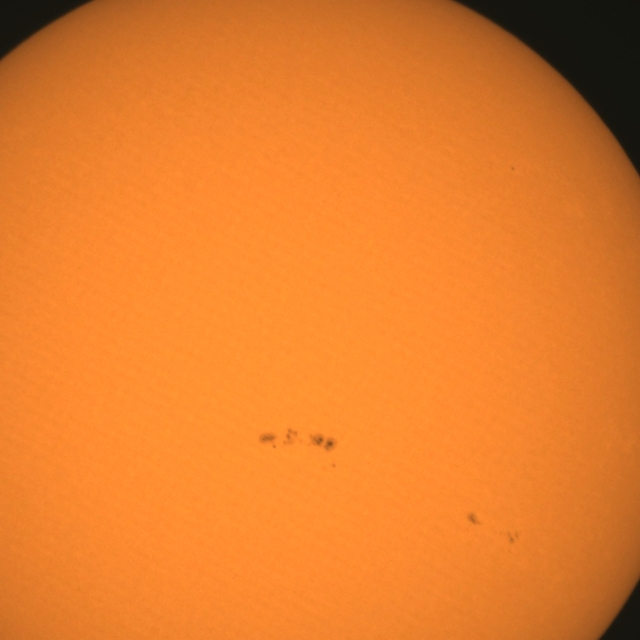sunspot: (278, 427, 338, 455), (307, 432, 338, 455), (504, 529, 522, 549), (465, 511, 482, 528), (330, 462, 338, 470), (509, 165, 516, 172)
